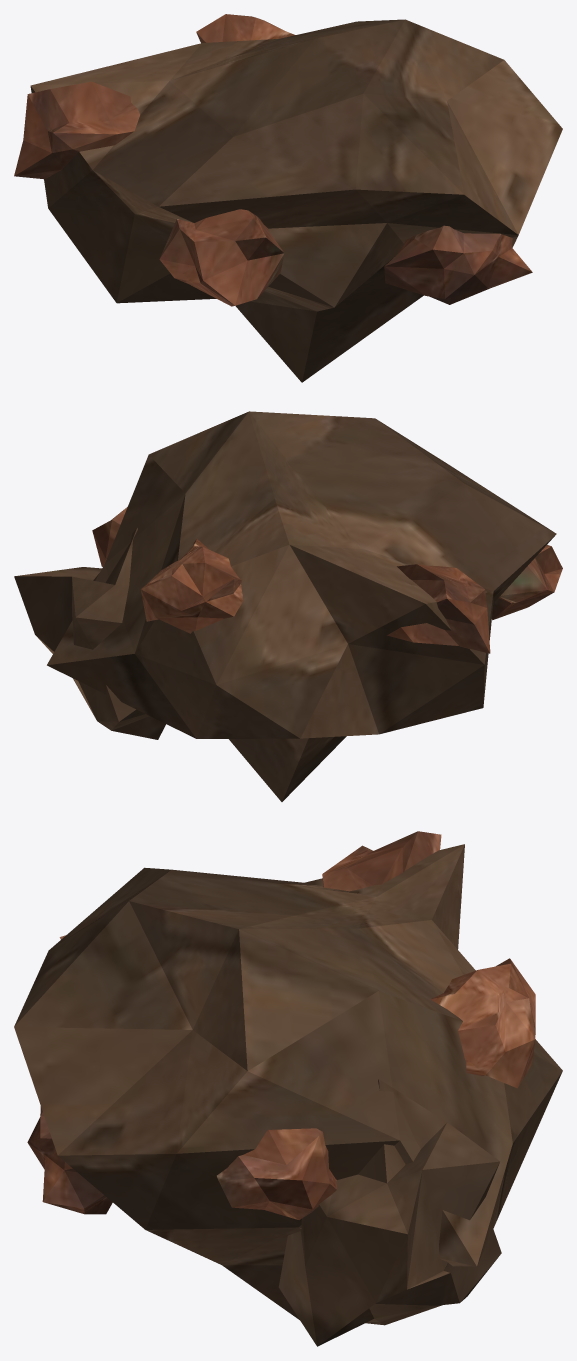
The model's file is copper_ore.glb.
3 views of the same model, one above another, from view 1: azimuth 30°, elevation 25°; view 2: azimuth 150°, elevation 25°; view 3: azimuth 270°, elevation 25° (orthographic). The views are drawn at different scales.
Visible parts, largest first — view 1: model; view 2: model; view 3: model.
Part boxes in pixels (<box>): model: <box>14,14,562,382</box>; model: <box>14,411,562,801</box>; model: <box>14,831,562,1346</box>.
Bounding box in the file's own units: 0.2747 × 0.1944 × 0.2163.
Materials: 3 (3 with a texture image).
